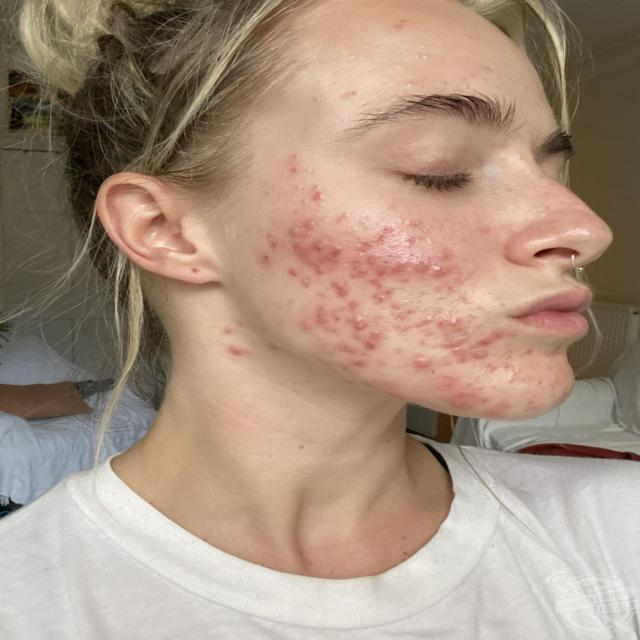Acne: (290, 205, 438, 307), (410, 300, 520, 377), (358, 232, 469, 296), (338, 328, 418, 373), (345, 282, 405, 328), (442, 373, 510, 410), (302, 310, 363, 334), (251, 231, 285, 267), (410, 349, 436, 371), (332, 85, 366, 98), (311, 186, 331, 205), (391, 11, 406, 32), (224, 346, 246, 360), (264, 339, 280, 354), (285, 162, 302, 176), (221, 322, 236, 334)
